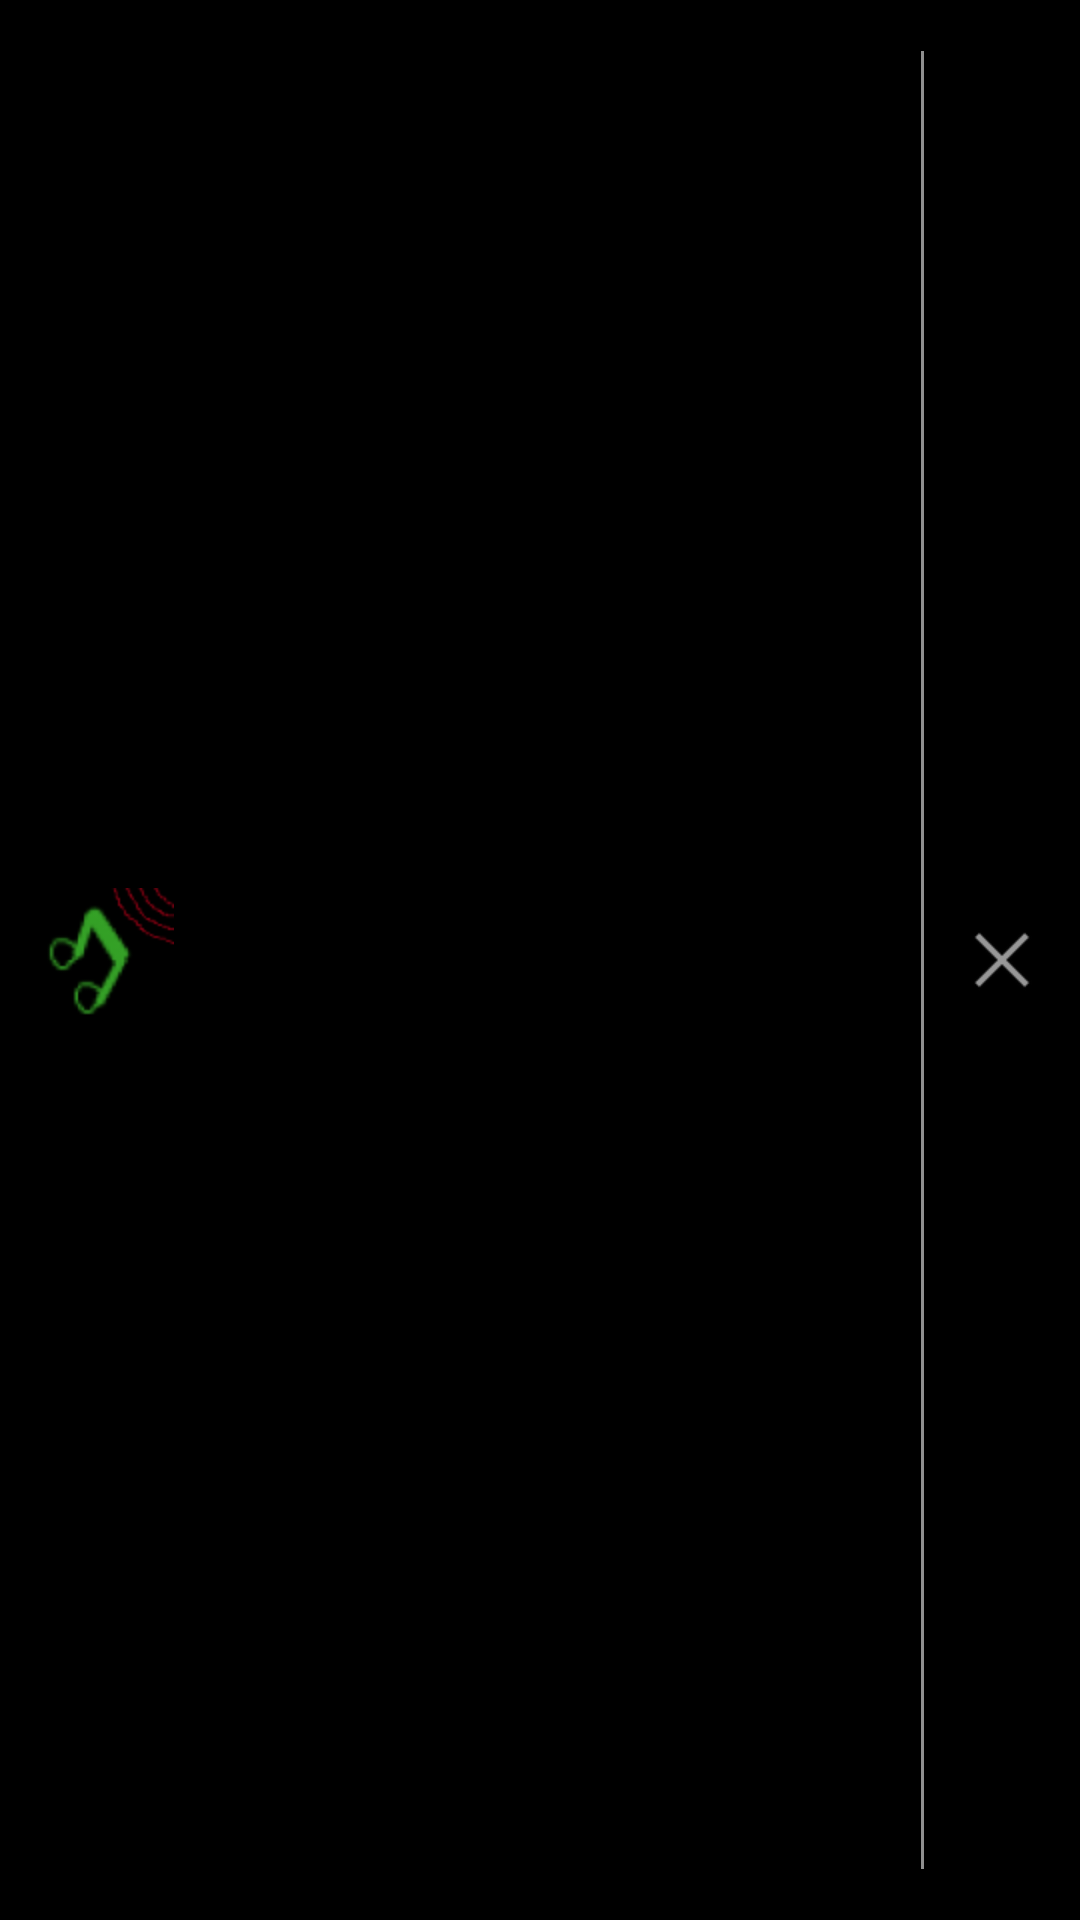

Where icons sit on this 1080×1920 app screen, as bbox=(x1, y1, x2, y2):
Close Notification Icon: bbox=(975, 933, 1029, 987)
Notification Icon: bbox=(49, 888, 174, 1015)
